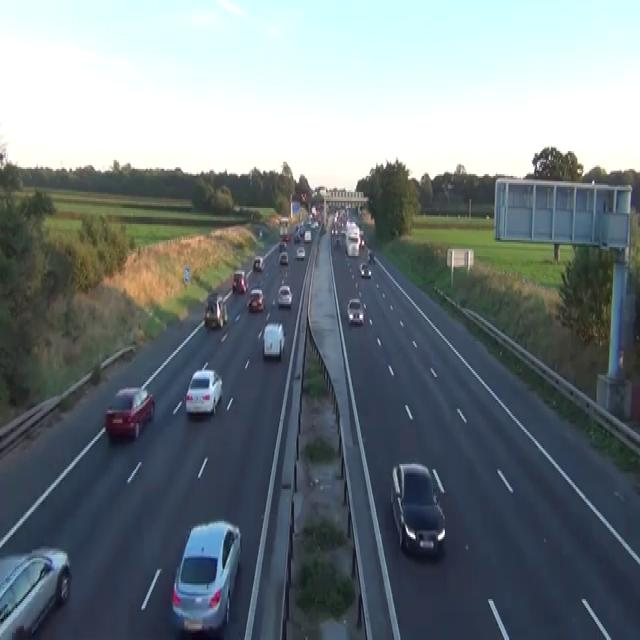Car: (171, 519, 241, 631), (0, 544, 71, 638), (390, 462, 445, 556), (105, 386, 155, 439), (185, 368, 222, 416), (262, 322, 285, 359), (204, 293, 227, 329), (347, 297, 365, 325), (246, 288, 264, 311), (232, 270, 248, 294), (277, 284, 292, 308), (252, 256, 264, 272), (359, 262, 371, 278), (278, 251, 288, 265), (296, 246, 305, 260), (367, 247, 374, 263), (336, 231, 344, 245), (359, 229, 365, 247), (303, 229, 311, 242), (441, 182, 454, 190), (280, 231, 289, 242), (278, 240, 286, 252), (311, 220, 319, 230), (293, 231, 300, 242), (298, 224, 304, 236), (233, 202, 240, 212), (321, 222, 326, 233), (446, 182, 454, 188), (335, 237, 340, 246), (259, 228, 262, 236)
Truck: (344, 222, 360, 256), (279, 217, 290, 240)
